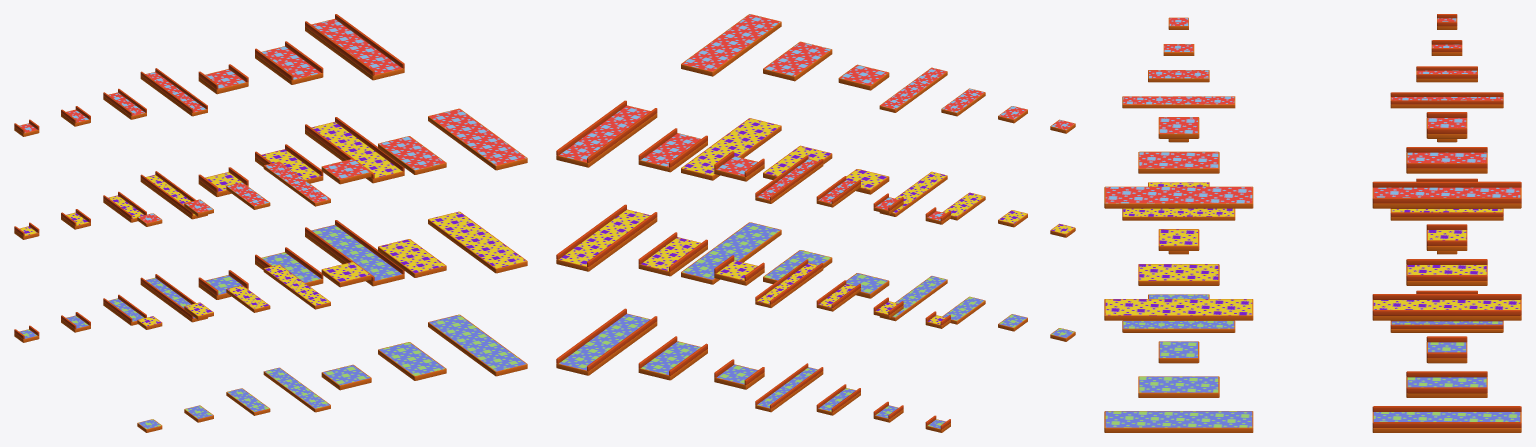
Rendered from Platforms.fbx.
3 renders of one model, left to right at view 1: azimuth 30°, elevation 25°; view 2: azimuth 150°, elevation 25°; view 3: azimuth 270°, elevation 25°, orthographic. The views are drawn at different scales.
Visible parts, largest first — view 1: BorderPlatform_10x2m_Red, BorderPlatform_10x2m_Blue, BorderPlatform_10x2m_Yellow, Platform_10x2m_Blue, Platform_10x2m_Yellow, Platform_10x2m_Red, BorderPlatform_5x2m_Red, Platform_5x2m_Red, Platform_5x2m_Yellow, Platform_5x2m_Blue, BorderPlatform_10x1m_Red, BorderPlatform_5x2m_Blue (+18 smaller); view 2: BorderPlatform_10x2m_Red, BorderPlatform_10x2m_Yellow, BorderPlatform_10x2m_Blue, Platform_10x2m_Red, Platform_10x2m_Yellow, Platform_10x2m_Blue, BorderPlatform_5x2m_Yellow, BorderPlatform_5x2m_Blue, BorderPlatform_5x2m_Red, Platform_5x2m_Red, BorderPlatform_10x1m_Blue, BorderPlatform_10x1m_Yellow (+18 smaller); view 3: BorderPlatform_10x2m_Red, BorderPlatform_10x2m_Blue, BorderPlatform_10x2m_Yellow, Platform_10x2m_Red, Platform_10x2m_Blue, Platform_10x2m_Yellow, BorderPlatform_5x2m_Yellow, BorderPlatform_5x2m_Red, BorderPlatform_5x2m_Blue, BorderPlatform_10x1m_Red, Platform_5x2m_Red, Platform_5x2m_Blue (+15 smaller).
Boxes of the visible parts, x1,y1,x2,y2 form: BorderPlatform_10x2m_Red: [305, 14, 404, 80]; BorderPlatform_10x2m_Blue: [305, 220, 404, 286]; BorderPlatform_10x2m_Yellow: [305, 117, 404, 183]; Platform_10x2m_Blue: [428, 314, 527, 376]; Platform_10x2m_Yellow: [428, 211, 527, 273]; Platform_10x2m_Red: [428, 108, 527, 170]; BorderPlatform_5x2m_Red: [255, 41, 323, 84]; Platform_5x2m_Red: [378, 136, 446, 174]; Platform_5x2m_Yellow: [378, 239, 446, 277]; Platform_5x2m_Blue: [378, 342, 446, 380]; BorderPlatform_10x1m_Red: [140, 68, 207, 116]; BorderPlatform_5x2m_Blue: [255, 247, 323, 286]; BorderPlatform_10x2m_Red: [556, 100, 657, 167]; BorderPlatform_10x2m_Yellow: [556, 204, 657, 271]; BorderPlatform_10x2m_Blue: [556, 308, 657, 375]; Platform_10x2m_Red: [681, 14, 781, 76]; Platform_10x2m_Yellow: [681, 118, 781, 180]; Platform_10x2m_Blue: [681, 222, 781, 284]; BorderPlatform_5x2m_Yellow: [638, 232, 707, 276]; BorderPlatform_5x2m_Blue: [638, 336, 707, 380]; BorderPlatform_5x2m_Red: [638, 128, 707, 172]; Platform_5x2m_Red: [763, 41, 832, 81]; BorderPlatform_10x1m_Blue: [755, 363, 823, 412]; BorderPlatform_10x1m_Yellow: [755, 259, 823, 307]; BorderPlatform_10x2m_Red: [1372, 181, 1521, 208]; BorderPlatform_10x2m_Blue: [1372, 406, 1521, 432]; BorderPlatform_10x2m_Yellow: [1372, 294, 1521, 320]; Platform_10x2m_Red: [1104, 186, 1253, 208]; Platform_10x2m_Blue: [1104, 411, 1253, 432]; Platform_10x2m_Yellow: [1104, 299, 1253, 320]; BorderPlatform_5x2m_Yellow: [1406, 259, 1487, 285]; BorderPlatform_5x2m_Red: [1406, 147, 1487, 173]; BorderPlatform_5x2m_Blue: [1406, 371, 1487, 397]; BorderPlatform_10x1m_Red: [1390, 92, 1503, 108]; Platform_5x2m_Red: [1138, 151, 1219, 173]; Platform_5x2m_Blue: [1138, 376, 1219, 397].
Bounding box in the file's own units: 21.48 × 20.22 × 12.52.
